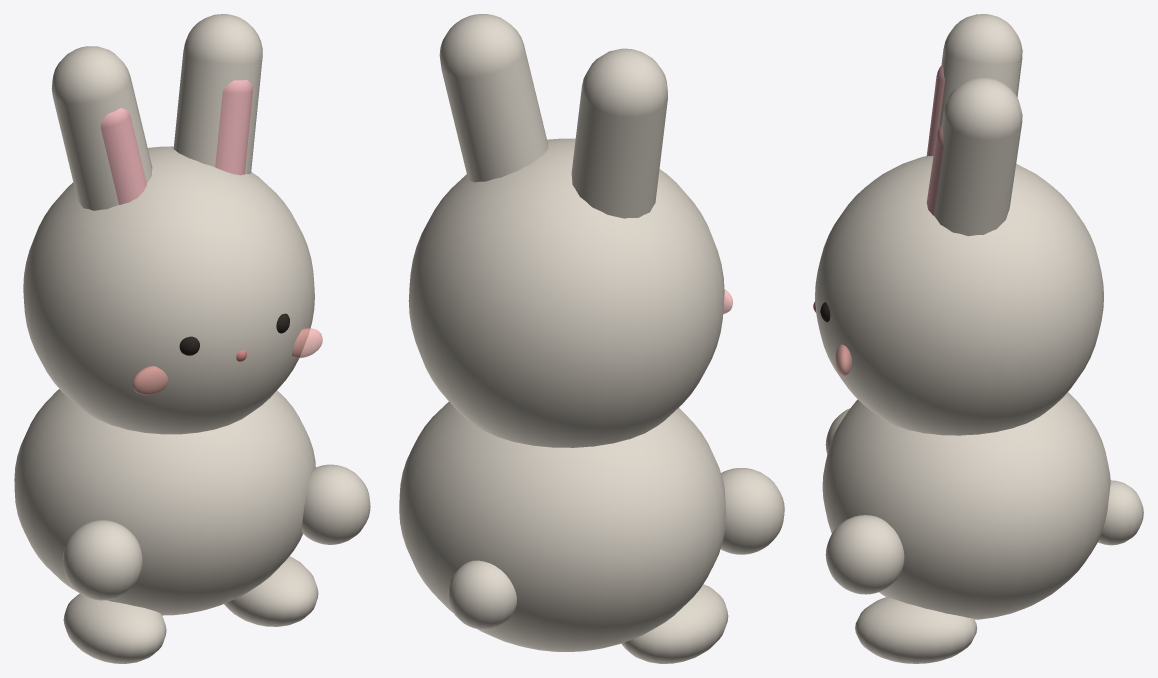
Rendered from mascot-rabbit.glb.
The picture shows the model from 3 angles, left to right: view 1: azimuth 30°, elevation 25°; view 2: azimuth 150°, elevation 25°; view 3: azimuth 270°, elevation 25°; orthographic projection. The views are drawn at different scales.
Visible parts, largest first — view 1: head, body, earOuter (×2), earInner (×2), footLeft, armLeft, armRight, footRight, cheek (×2); view 2: head, body, earOuter (×2), armLeft, footLeft, tail; view 3: head, body, earOuter (×2), footRight, armRight, tail, earInner (×2).
Boxes of the visible parts, x1,y1,x2,y2 form: head: [23, 146, 314, 434]; body: [14, 389, 315, 615]; earOuter (×2): [51, 14, 262, 210]; earInner (×2): [100, 80, 252, 204]; footLeft: [63, 593, 166, 663]; armLeft: [62, 520, 142, 600]; armRight: [302, 464, 370, 544]; footRight: [224, 556, 318, 626]; cheek (×2): [132, 328, 322, 395]; head: [408, 138, 724, 447]; body: [399, 402, 725, 651]; earOuter (×2): [439, 14, 667, 218]; armLeft: [720, 468, 784, 554]; footLeft: [621, 584, 728, 663]; tail: [448, 560, 516, 629]; head: [815, 156, 1103, 435]; body: [822, 392, 1110, 619]; earOuter (×2): [934, 14, 1022, 236]; footRight: [855, 597, 977, 663]; armRight: [825, 515, 904, 594]; tail: [1098, 480, 1143, 545]; earInner (×2): [926, 65, 944, 215].
Bounding box in the file's own units: 0.94 × 1.75 × 0.915.
